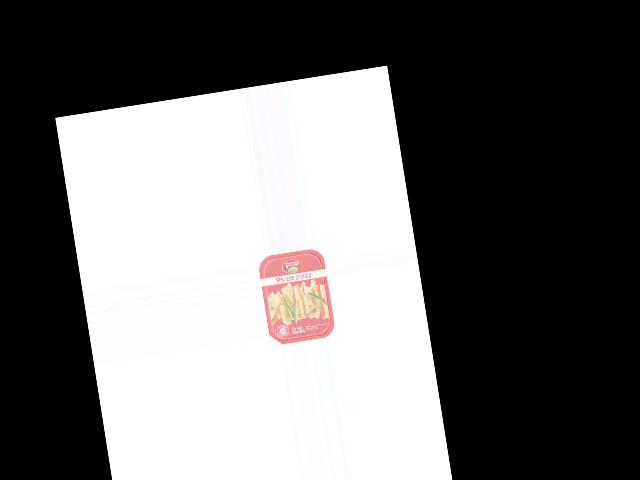cheese: (257, 246, 337, 346)
